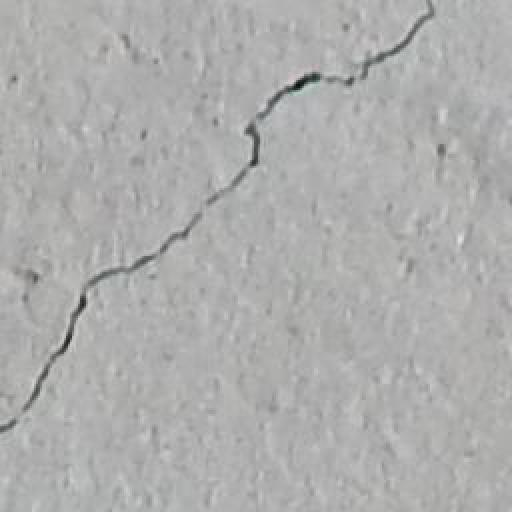spalling: (2, 8, 456, 447)
